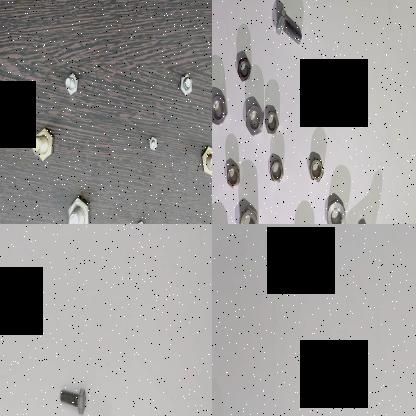Bolts: (274, 3, 306, 50), (54, 377, 88, 416), (64, 192, 96, 224), (34, 128, 56, 166), (176, 68, 197, 102), (62, 67, 80, 98), (198, 144, 212, 178), (133, 216, 149, 224)
NUTS: (304, 150, 326, 188), (244, 100, 264, 136), (212, 87, 228, 129), (323, 197, 347, 224), (268, 152, 286, 188), (235, 52, 252, 86), (266, 108, 282, 138), (235, 205, 259, 224)
